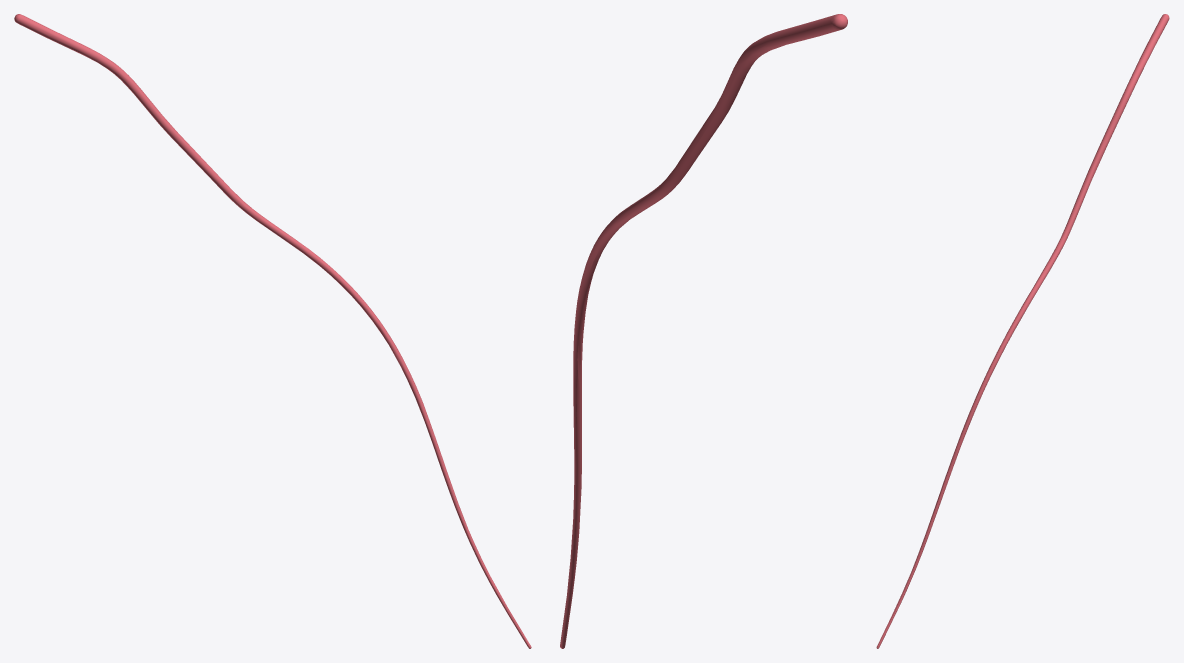
File: fma22921_fj2320.glb
3 renders of one model, left to right at view 1: azimuth 30°, elevation 25°; view 2: azimuth 150°, elevation 25°; view 3: azimuth 270°, elevation 25°, orthographic. The views are drawn at different scales.
Parts seen in each view (by area): view 1: FMA22921_FJ2320; view 2: FMA22921_FJ2320; view 3: FMA22921_FJ2320.
Boxes of the visible parts, left/top/right/bottom form: FMA22921_FJ2320: left=14, top=14, right=531, bottom=648; FMA22921_FJ2320: left=560, top=14, right=847, bottom=648; FMA22921_FJ2320: left=876, top=14, right=1169, bottom=648.
Size of the model in its own units: 0.0592 by 0.097 by 0.052.
